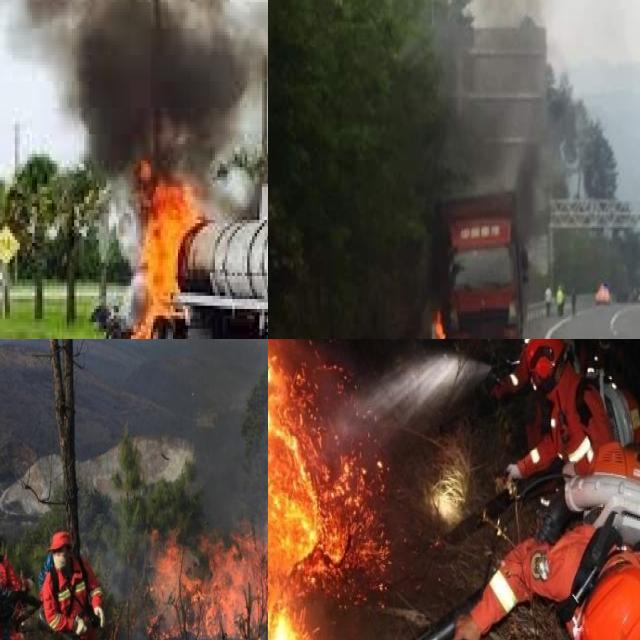fire: (268, 339, 371, 640), (147, 467, 268, 640), (109, 173, 220, 339), (429, 300, 464, 339)
smoke: (2, 0, 247, 167), (448, 0, 632, 212)
